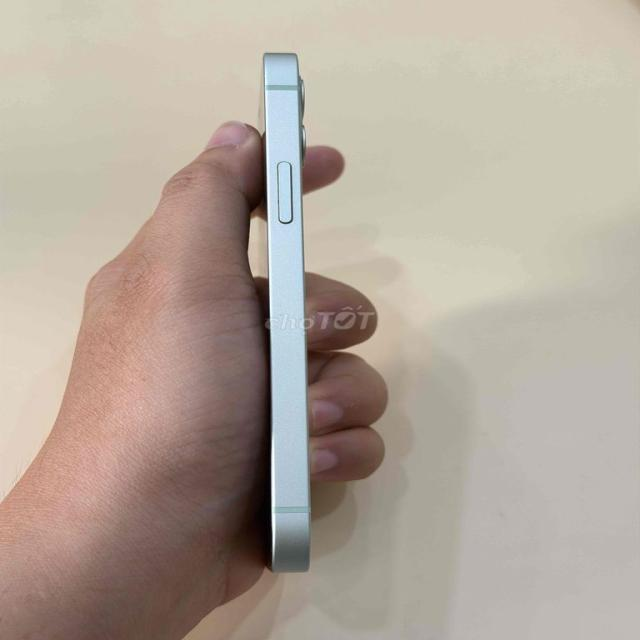gen_12_13: (248, 46, 331, 584)
